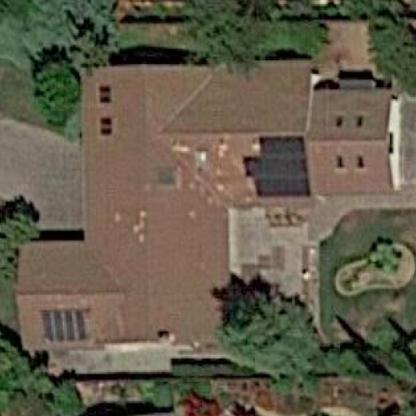solar_panel: (242, 124, 324, 203), (33, 301, 109, 348)
